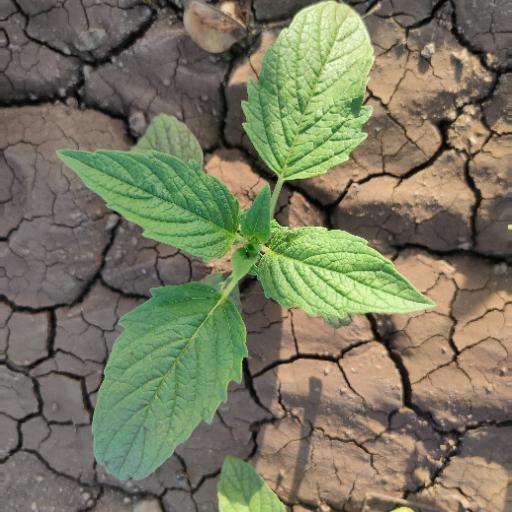crop: (54, 10, 440, 512)
